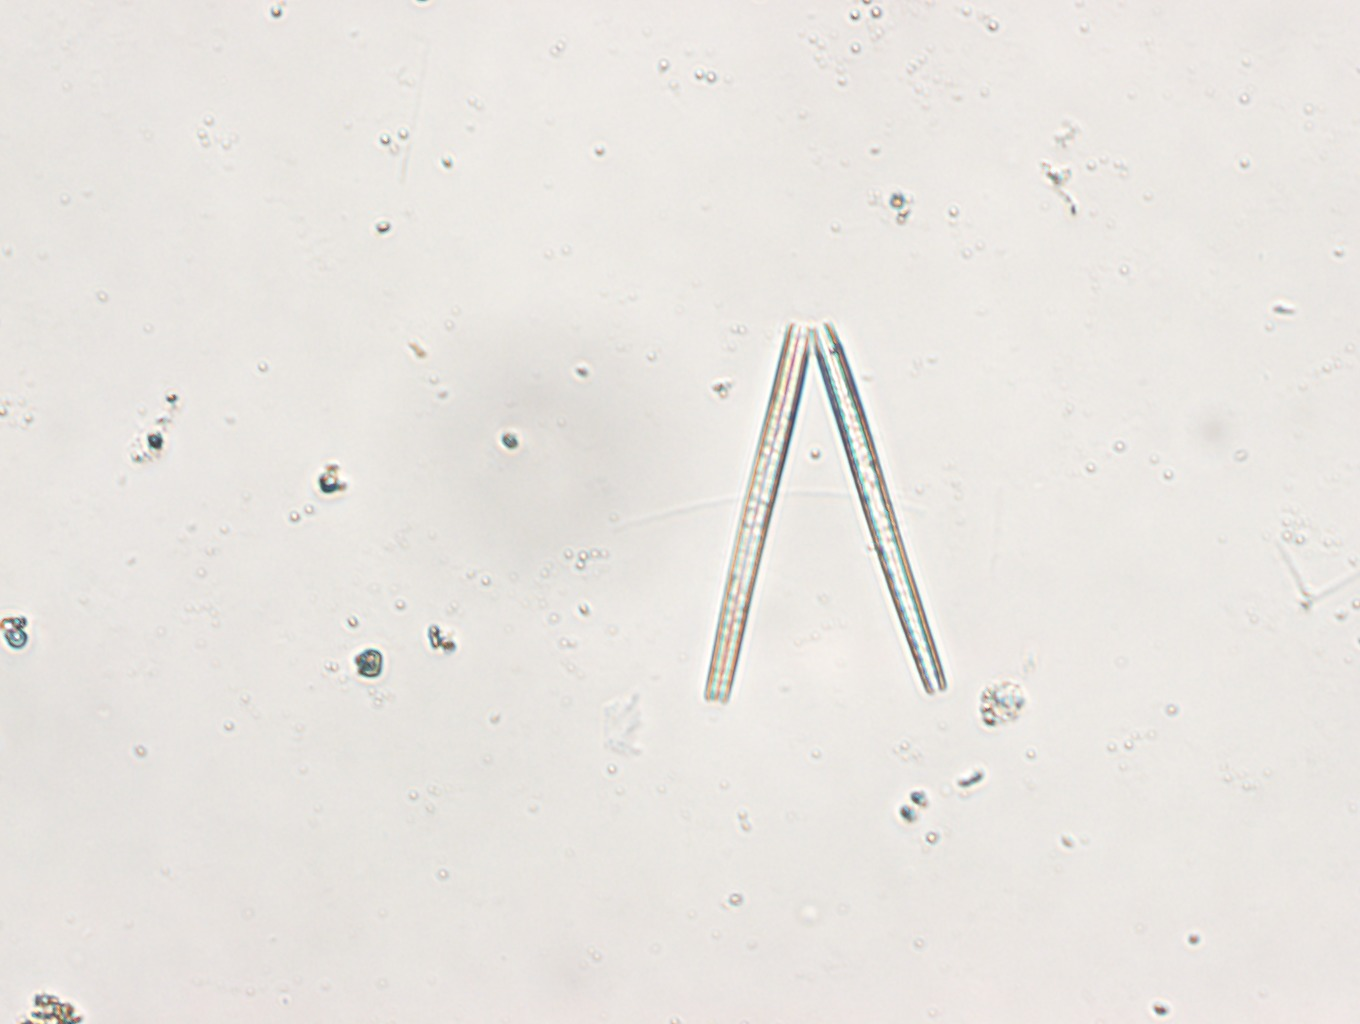thalassionema frauenfeldii: (695, 317, 947, 708)
